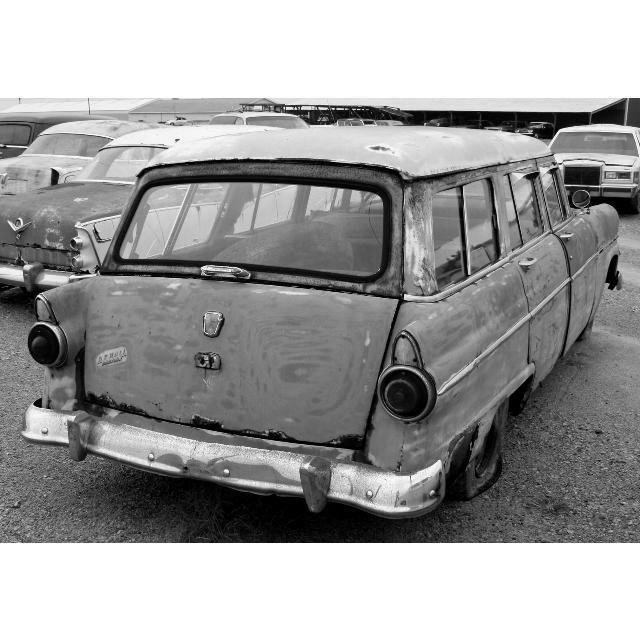rear-bumper-dent: (47, 405, 375, 487)
